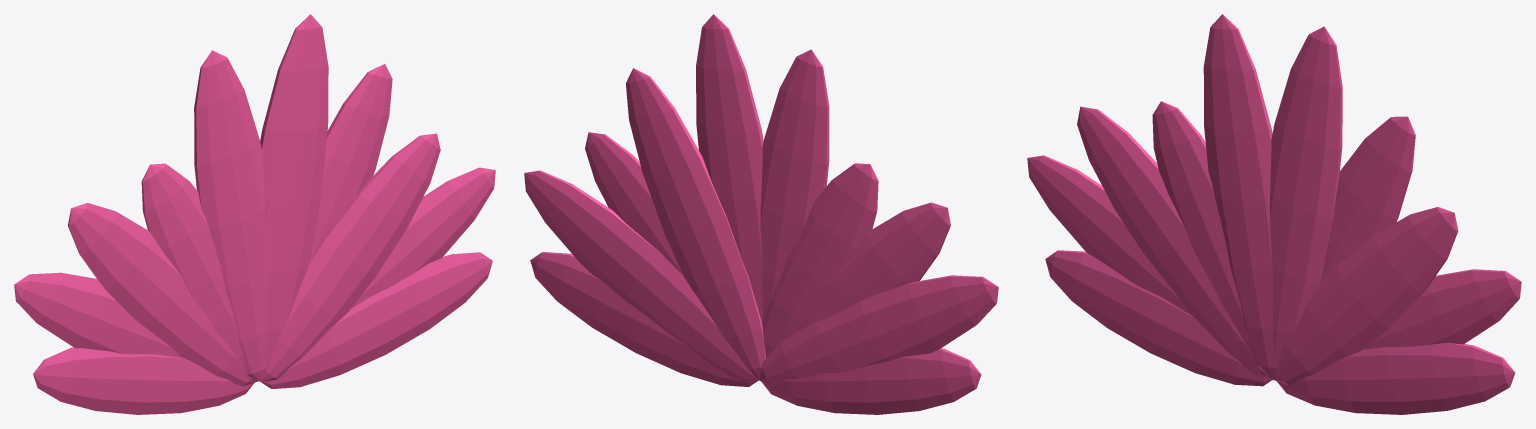
The model's file is FeatherFan_Feather.fbx.
3 views of the same model, side by side, from view 1: azimuth 30°, elevation 25°; view 2: azimuth 150°, elevation 25°; view 3: azimuth 330°, elevation 25° (orthographic). The views are drawn at different scales.
Visible parts, largest first — view 1: Feather1.001; view 2: Feather1.001; view 3: Feather1.001.
Part boxes in pixels (x1,y1,x2,y2): Feather1.001: (14,14,495,414); Feather1.001: (524,14,998,414); Feather1.001: (1027,14,1521,414).
Size of the model in its own units: 2912 by 2150 by 144.
